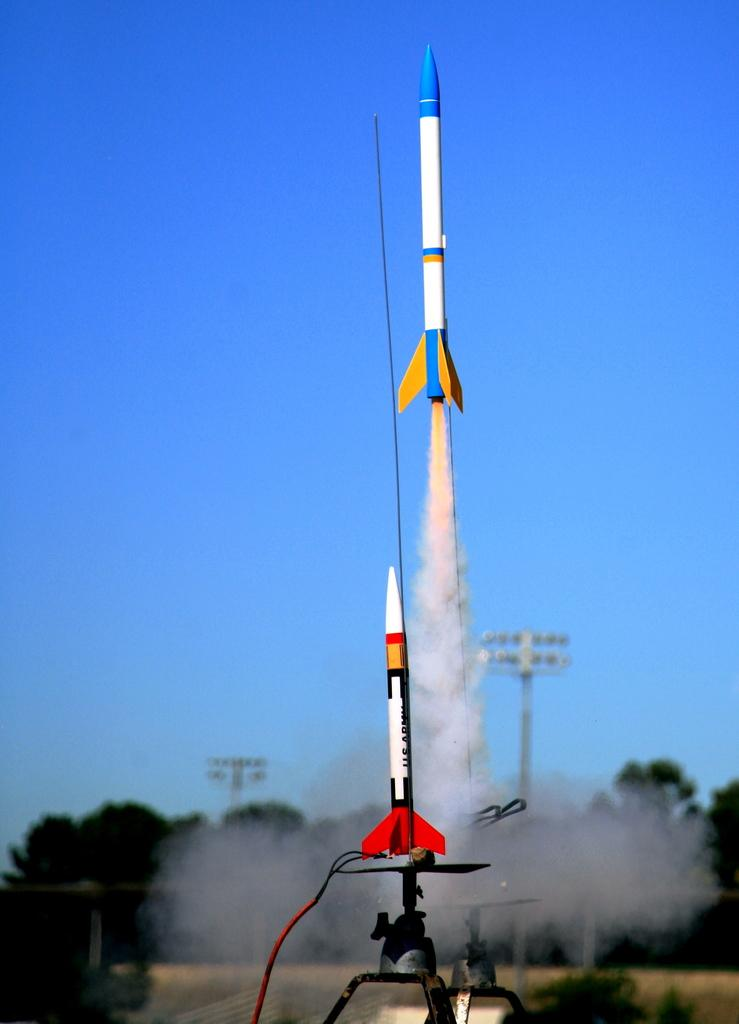Missile: (364, 568, 458, 865), (397, 41, 465, 420)
